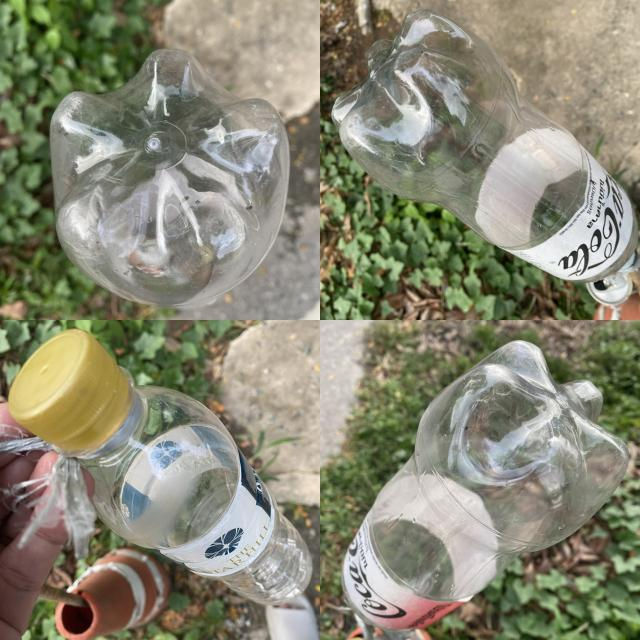plastik: (332, 10, 638, 282), (342, 341, 629, 630), (9, 331, 311, 605), (50, 49, 290, 306)
